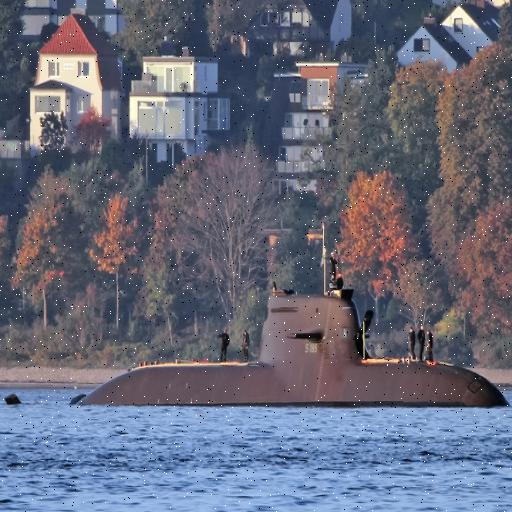submarine: (60, 291, 512, 408)
